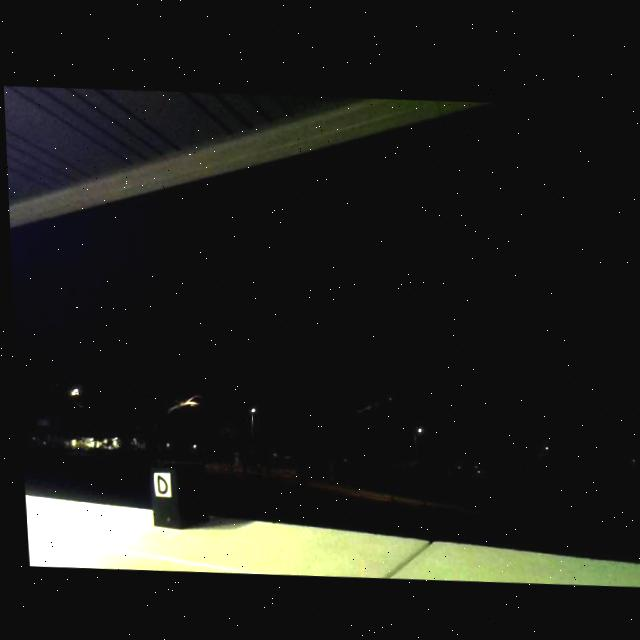D: (151, 473, 165, 493)
